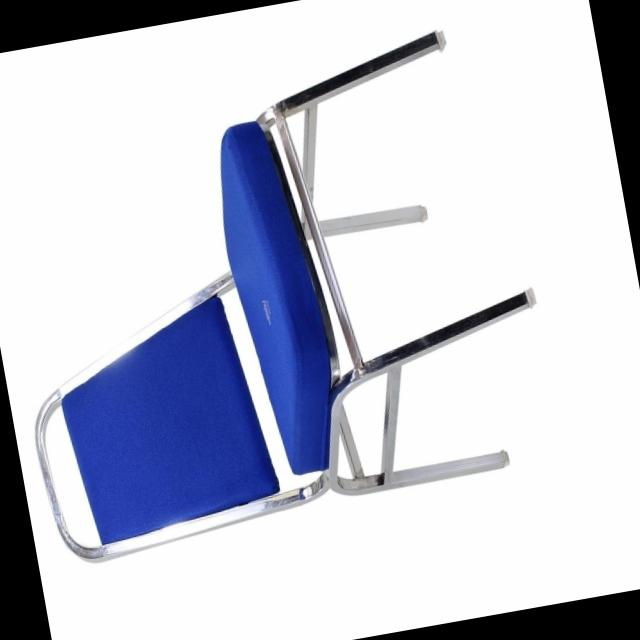Chair: (0, 4, 573, 586)
